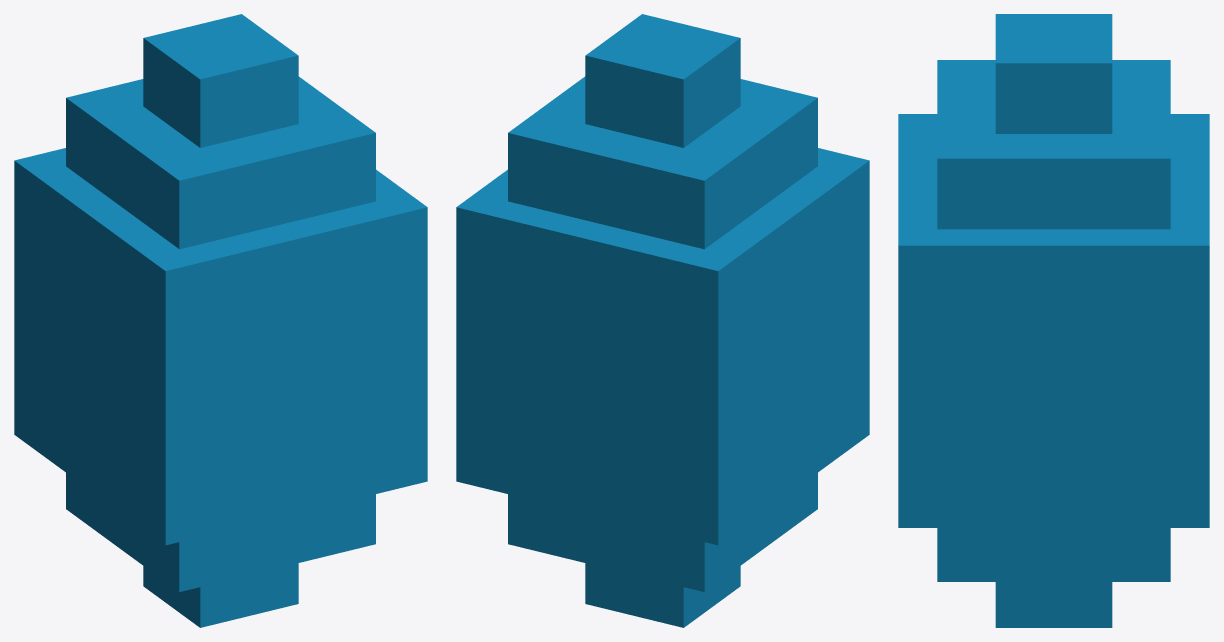
Rendered from DimensionBeacon.fbx.
The picture shows the model from 3 angles, left to right: view 1: azimuth 30°, elevation 25°; view 2: azimuth 150°, elevation 25°; view 3: azimuth 270°, elevation 25°; orthographic projection. The views are drawn at different scales.
Parts seen in each view (by area): view 1: Cube.001, Cube.002, Cube.004, Cube.003, Cube.005; view 2: Cube.001, Cube.002, Cube.004, Cube.003, Cube.005; view 3: Cube.001, Cube.002, Cube.004, Cube.003, Cube.005.
Boxes of the visible parts, bbox=[...] form: Cube.001: bbox=[14, 148, 427, 545]; Cube.002: bbox=[66, 76, 375, 249]; Cube.004: bbox=[143, 14, 298, 147]; Cube.003: bbox=[66, 473, 375, 591]; Cube.005: bbox=[143, 563, 298, 627]; Cube.001: bbox=[456, 148, 869, 545]; Cube.002: bbox=[508, 76, 817, 249]; Cube.004: bbox=[585, 14, 740, 147]; Cube.003: bbox=[508, 473, 817, 591]; Cube.005: bbox=[585, 563, 740, 627]; Cube.001: bbox=[898, 114, 1209, 527]; Cube.002: bbox=[937, 60, 1170, 229]; Cube.004: bbox=[995, 14, 1112, 133]; Cube.003: bbox=[937, 528, 1170, 581]; Cube.005: bbox=[995, 582, 1112, 627].
Size of the model in its own units: 80 by 160 by 80.
